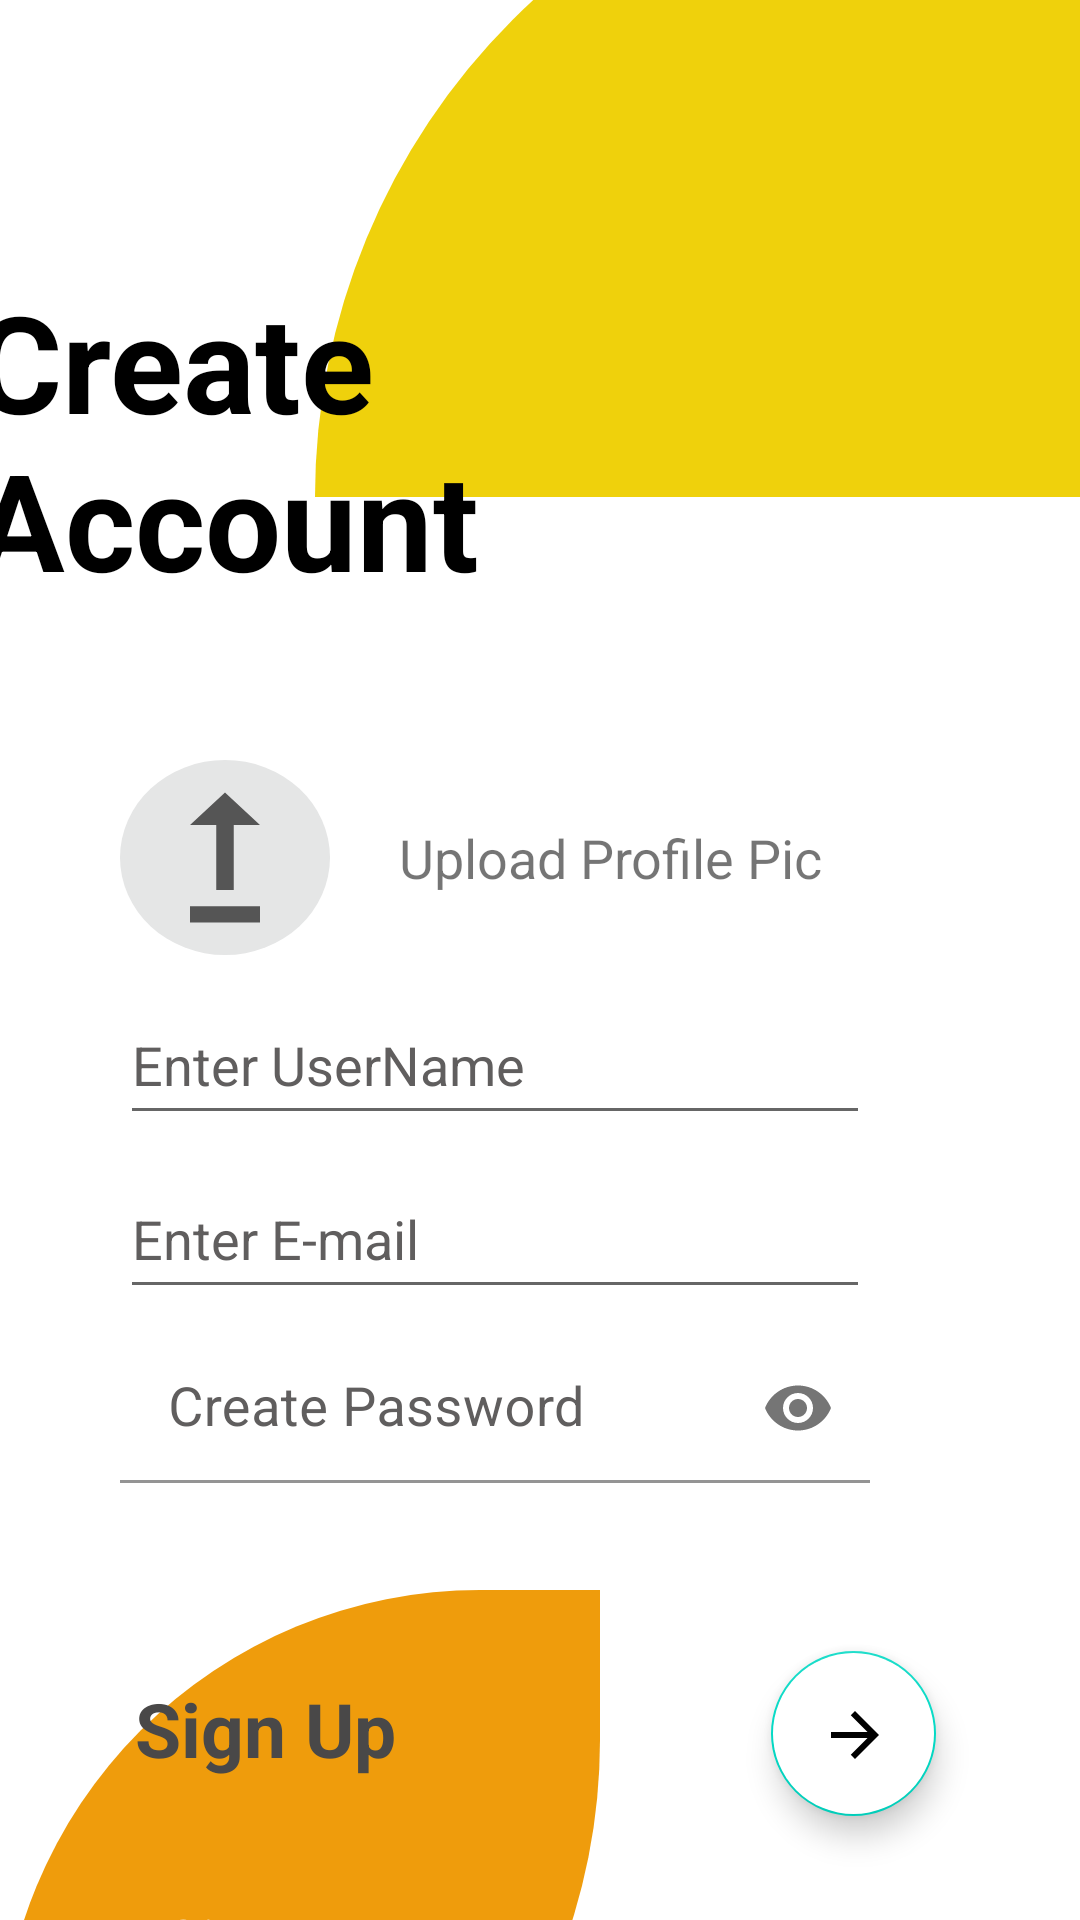

Icons on this 1080px x 1920px Android screen, each with its box as (x1, y1, x2, y2):
arrow: (771, 1651, 936, 1816)
